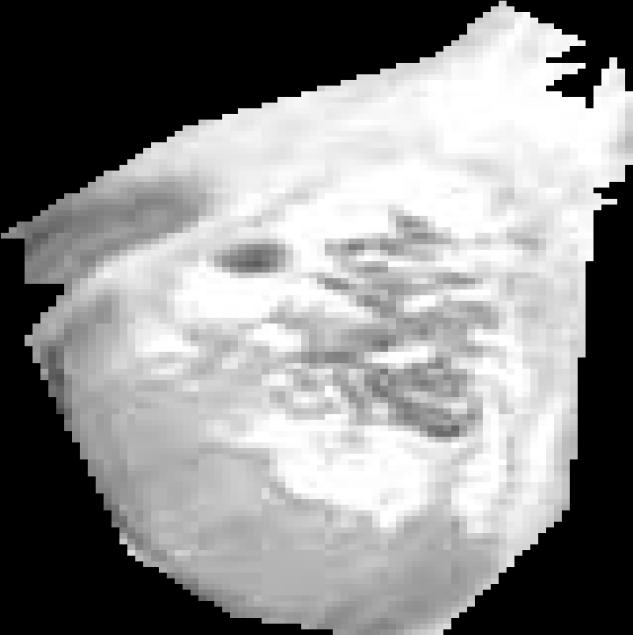tumor_less_chance: (1, 1, 633, 635)
